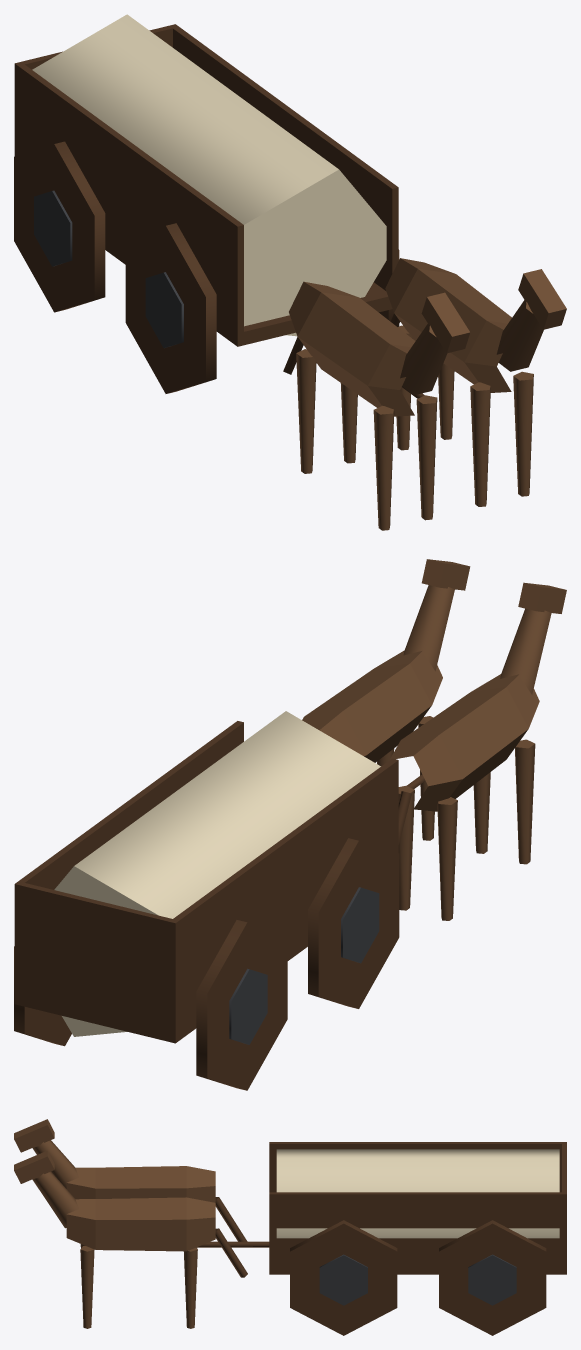
Rendered from veh_ground_wagon_a05_lod1.glb.
The picture shows the model from 3 angles, top to bottom: view 1: azimuth 30°, elevation 25°; view 2: azimuth 150°, elevation 25°; view 3: azimuth 270°, elevation 25°; orthographic projection. The views are drawn at different scales.
Parts seen in each view (by area): view 1: body, animal_0, animal_1, wheel_0, wheel_2; view 2: body, animal_0, animal_1, wheel_0, wheel_2, wheel_1; view 3: body, animal_1, wheel_1, wheel_3, animal_0.
Part boxes in pixels (<box>): body: <box>14,14,424,398</box>; animal_0: <box>283,281,470,530</box>; animal_1: <box>385,258,566,506</box>; wheel_0: <box>14,141,105,312</box>; wheel_2: <box>125,223,216,393</box>; body: <box>14,711,425,1043</box>; animal_0: <box>389,582,566,920</box>; animal_1: <box>302,559,470,840</box>; wheel_0: <box>196,920,287,1090</box>; wheel_2: <box>308,838,399,1008</box>; wheel_1: <box>14,946,71,1046</box>; body: <box>197,1142,566,1274</box>; animal_1: <box>14,1150,247,1328</box>; wheel_1: <box>439,1220,546,1335</box>; wheel_3: <box>290,1220,397,1335</box>; animal_0: <box>14,1119,247,1241</box>.
Bounding box in the file's own units: 1.84 × 2.23 × 6.69.
